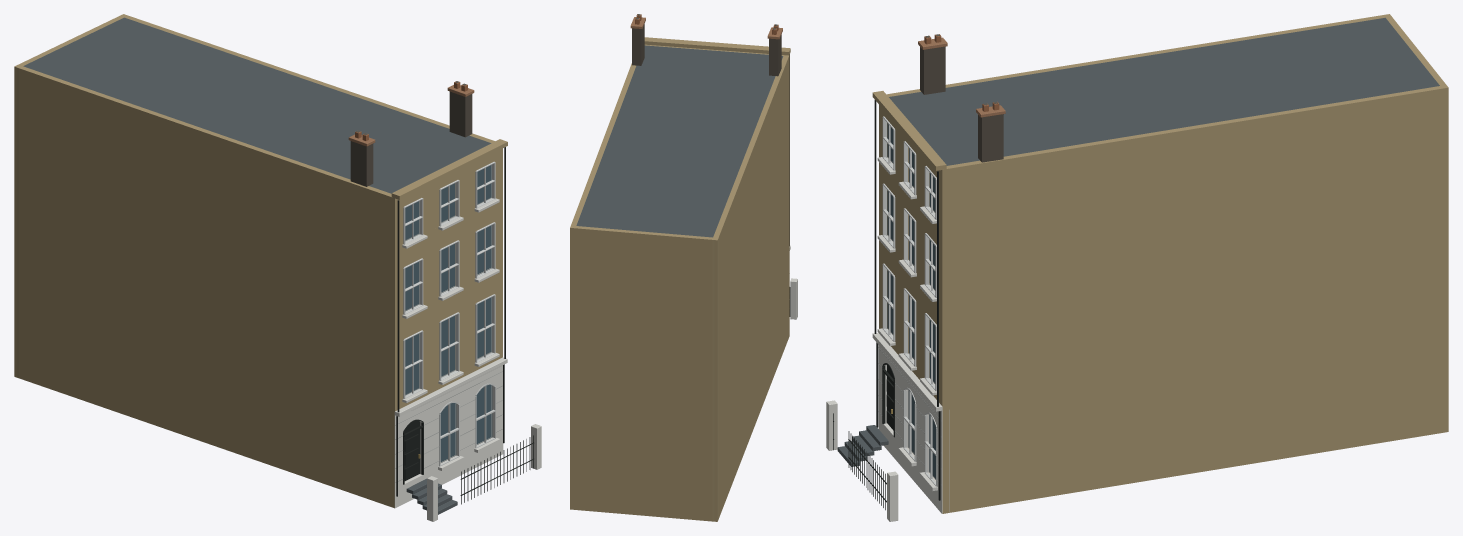
Rendered from 5lf-exterior-46e3e4588d5d.glb.
3 renders of one model, left to right at view 1: azimuth 30°, elevation 25°; view 2: azimuth 150°, elevation 25°; view 3: azimuth 270°, elevation 25°, orthographic. The views are drawn at different scales.
Parts seen in each view (by area): view 1: 5LF.001; view 2: 5LF.001; view 3: 5LF.001.
Boxes of the visible parts, <box> form: 5LF.001: <box>14,14,541,521</box>; 5LF.001: <box>570,14,797,521</box>; 5LF.001: <box>826,14,1448,521</box>.
Size of the model in its own units: 14.28 by 16.24 by 22.93.
